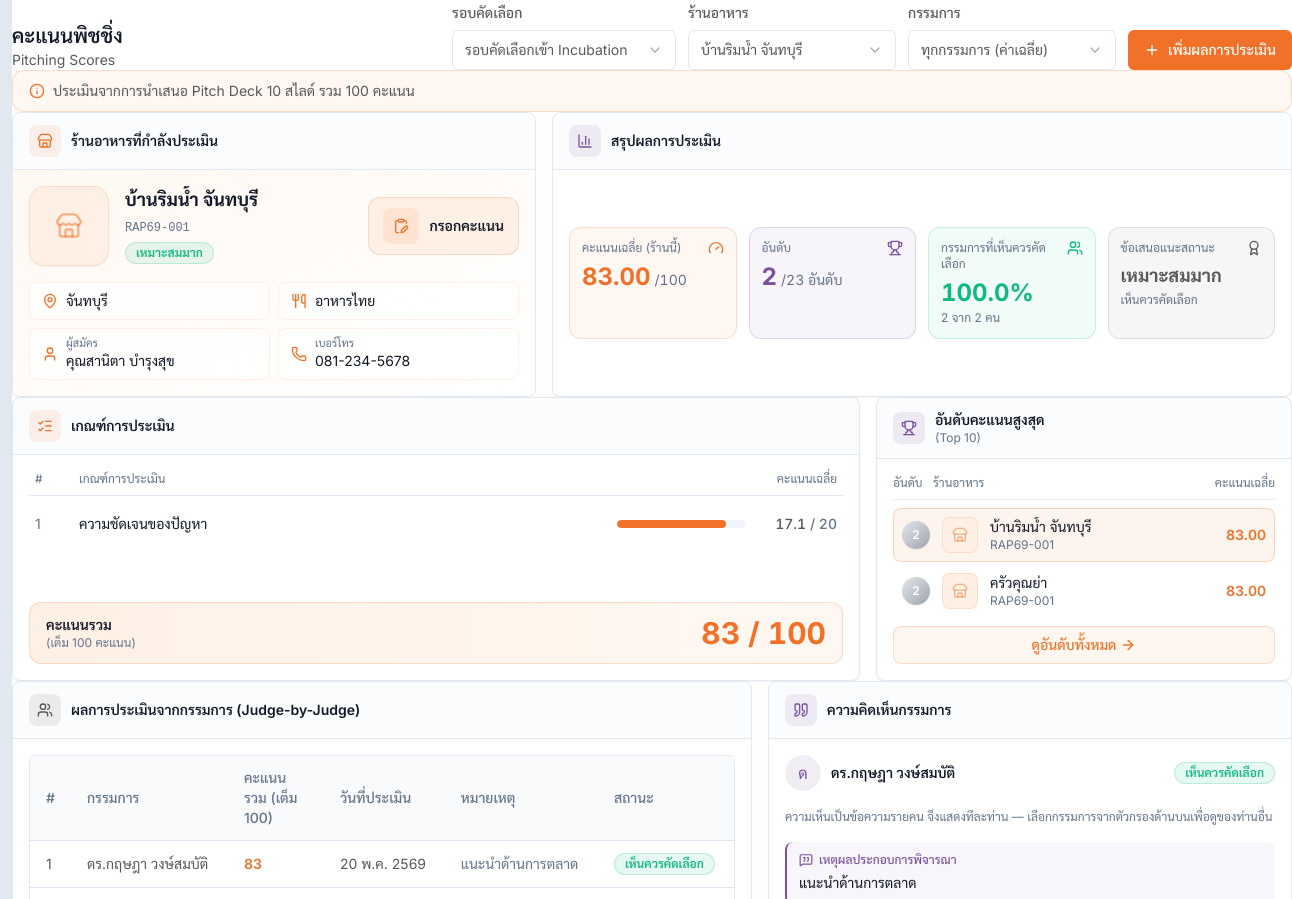
it: PitchingDashboard › resets the judge pick when the store changes
Check: the text "17.1" is shown, box [775,515,806,532]
Step 1. Click the dropdown labelled "กรรมการ" → point(1012, 50), box [908,30,1116,70]
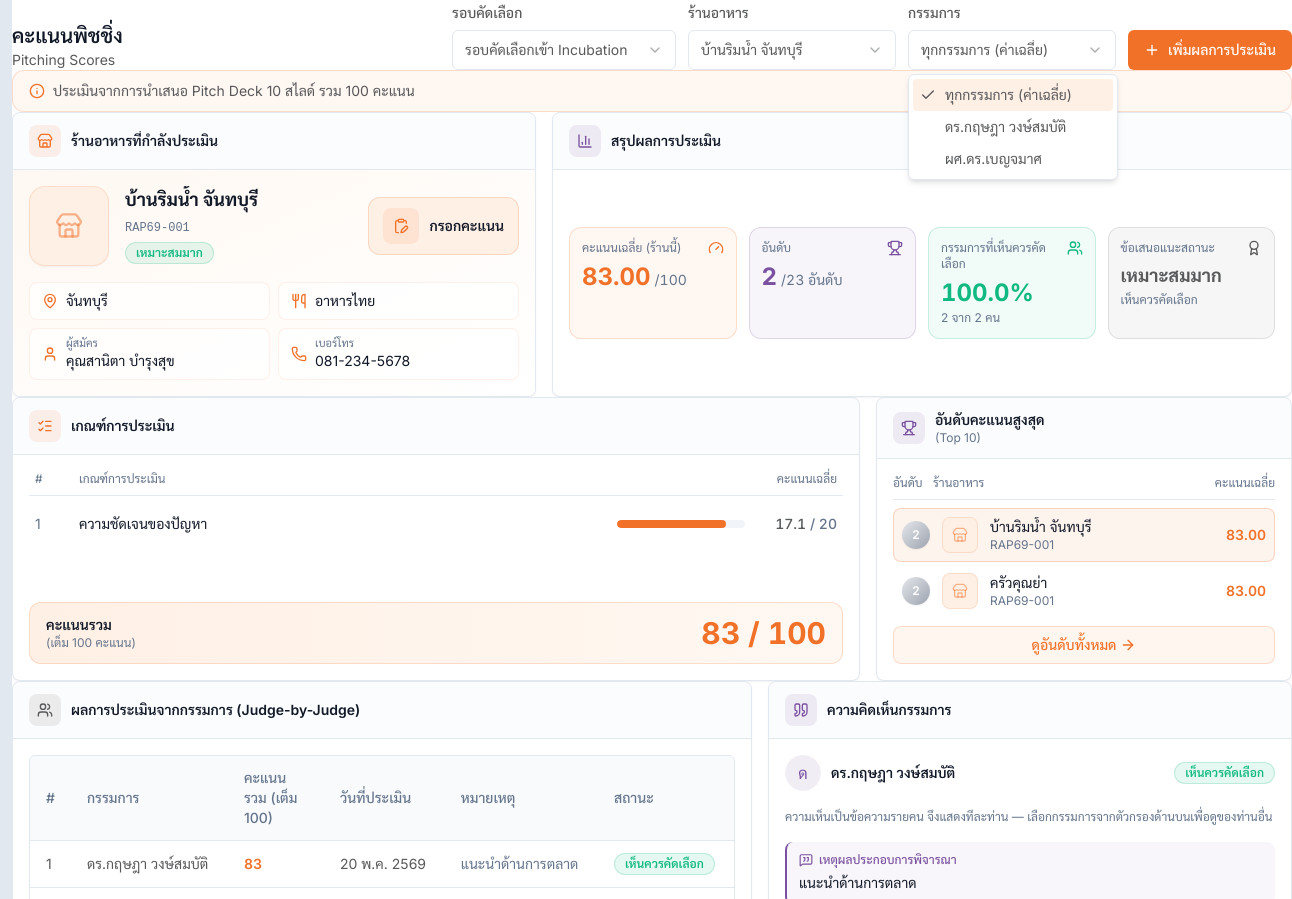
Step 2. Click the option "ดร.กฤษฎา วงษ์สมบัติ" → point(1006, 126), box [945,118,1066,135]
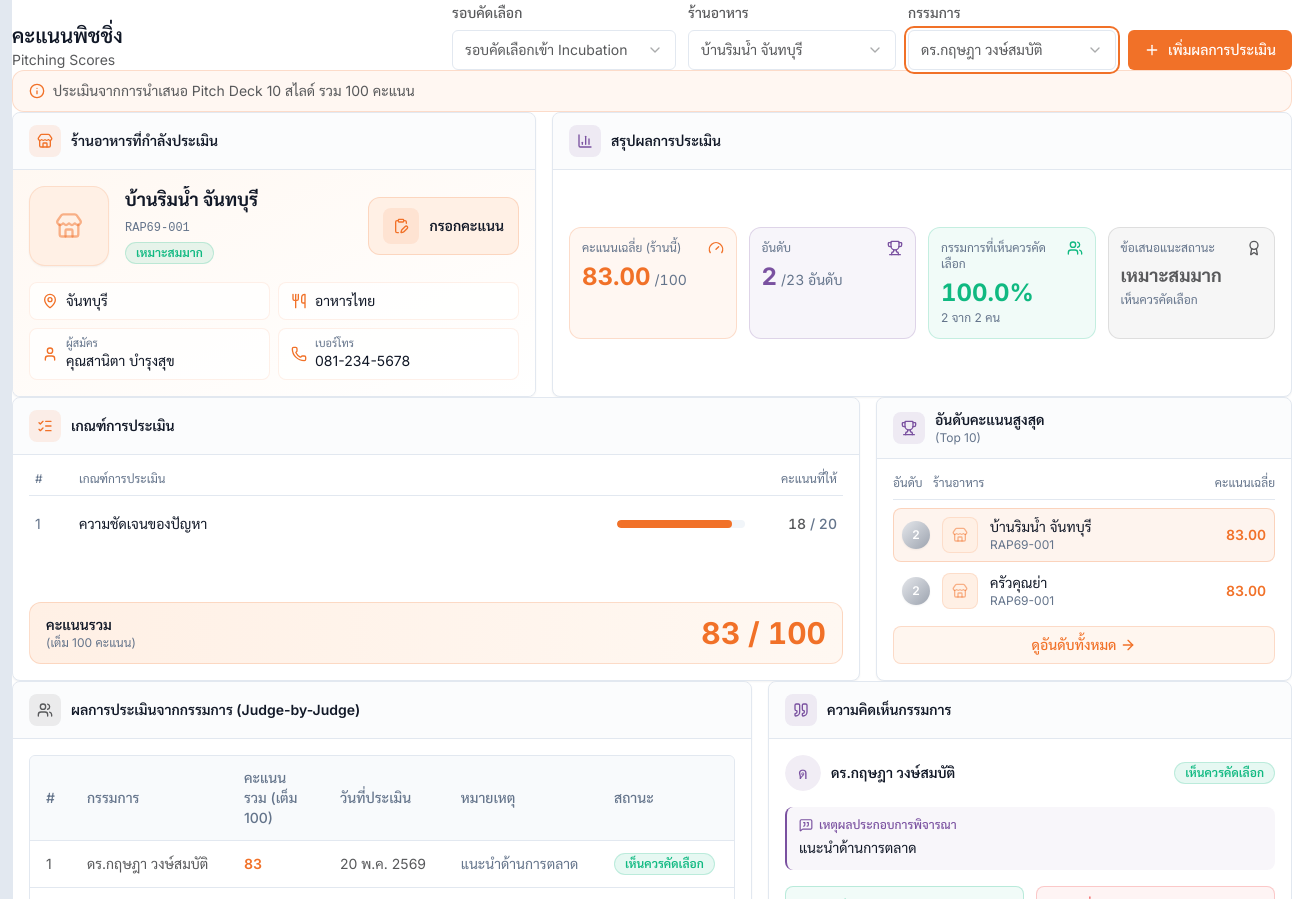
Check: the text "18" is shown, box [788,515,806,532]
Step 3. Click the dropdown named "ร้านอาหาร" → point(792, 50), box [688,30,896,70]
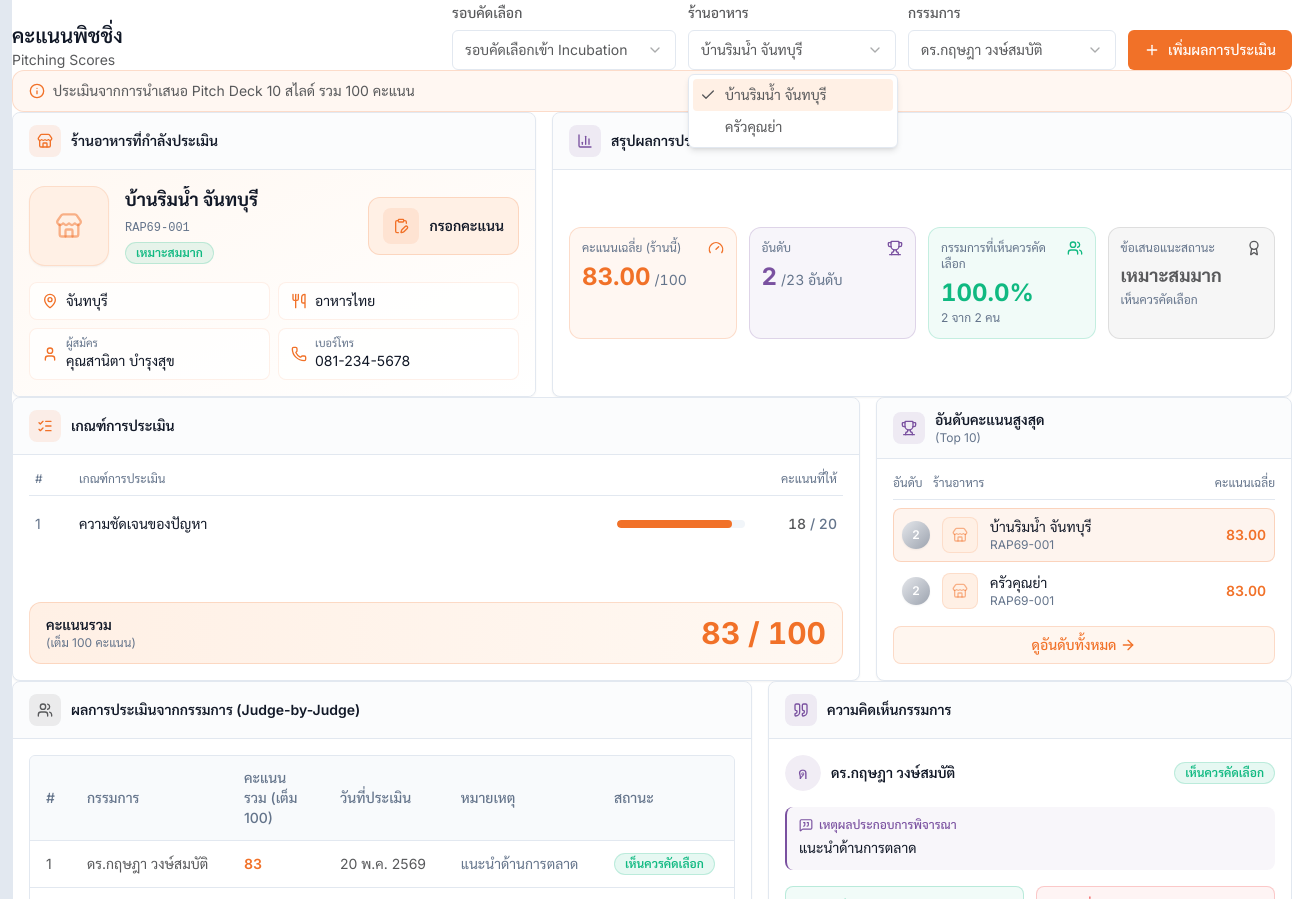
Step 4. Click the option "ครัวคุณย่า" → point(754, 126), box [725,118,782,135]
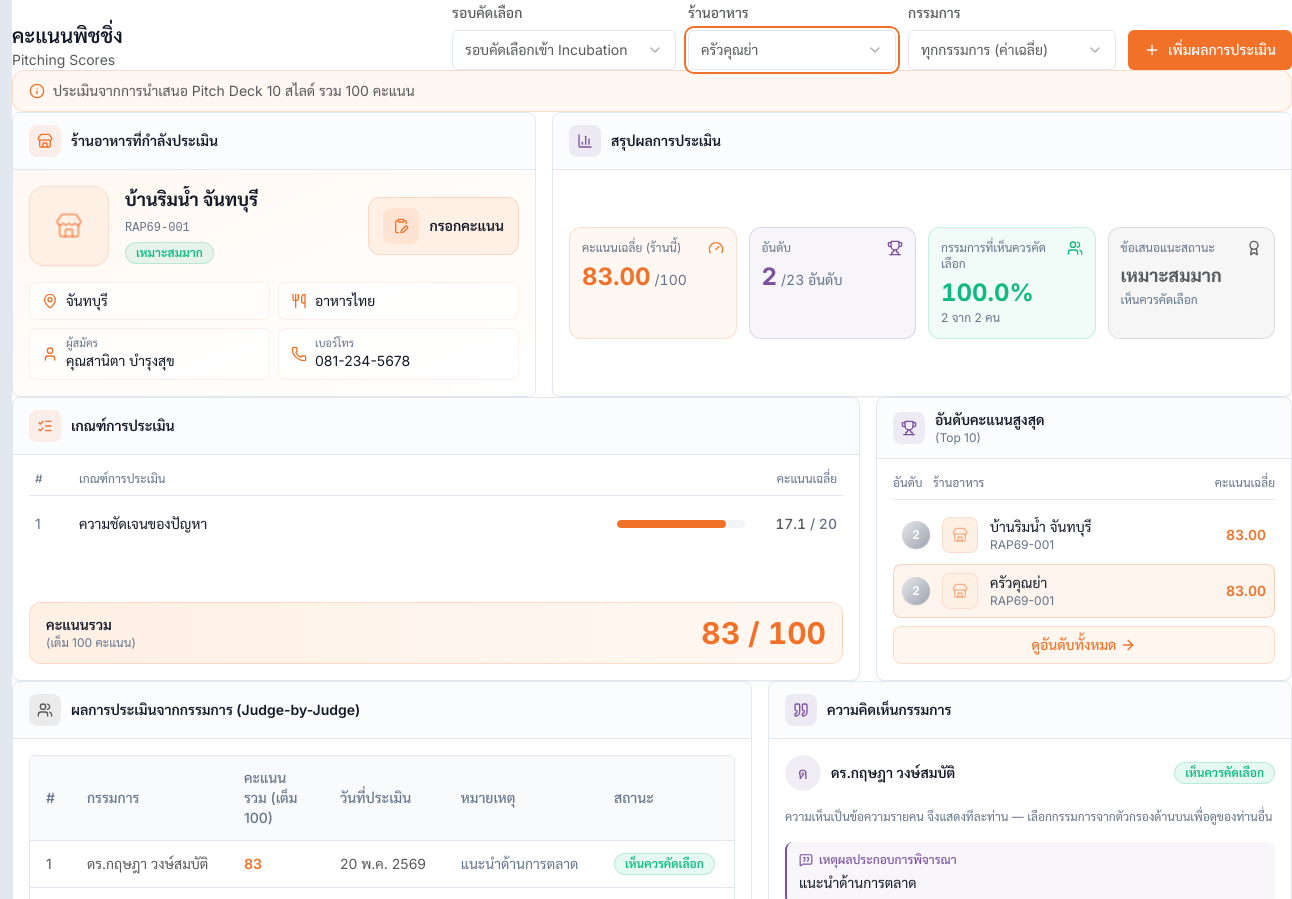
Check: the dropdown labelled "กรรมการ" reads "ทุกกรรมการ (ค่าเฉลี่ย)", box [908,30,1116,70]
Check: the text "17.1" is shown, box [775,515,806,532]
